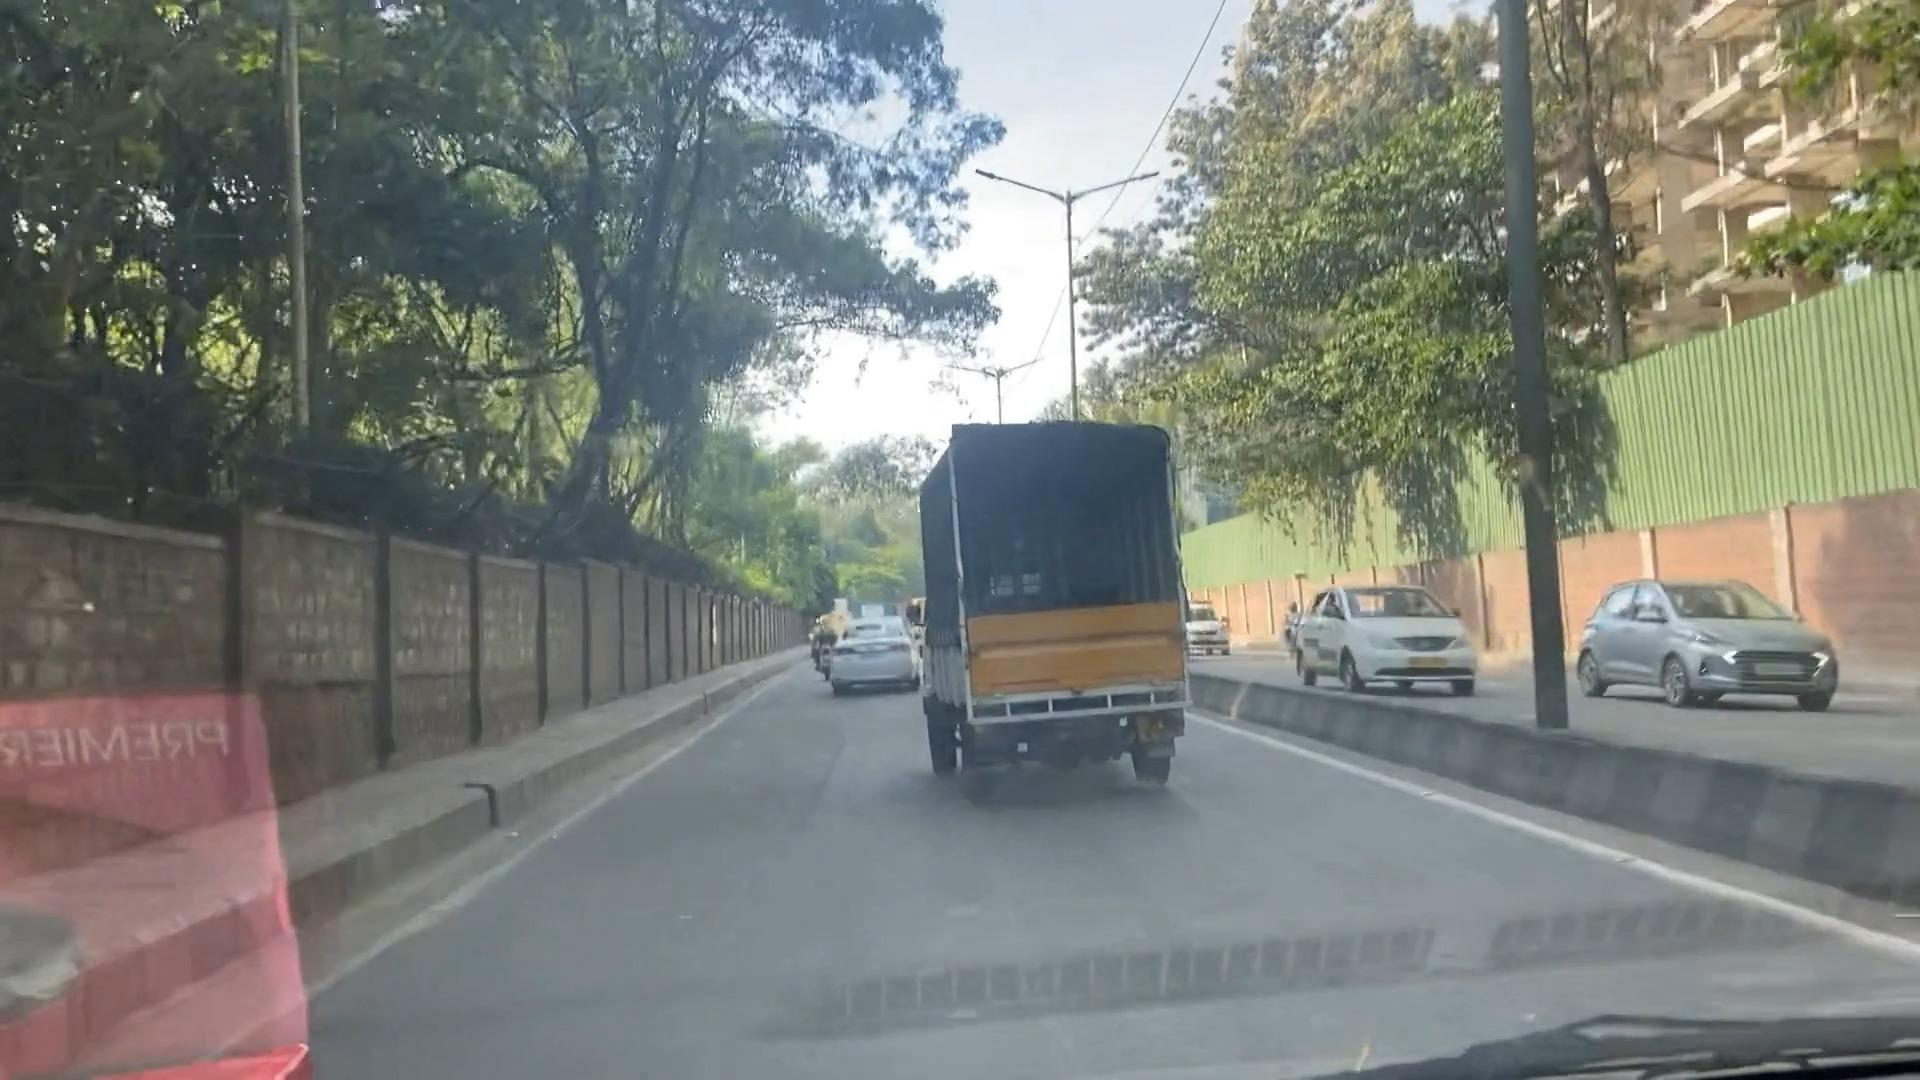HMV: (891, 398, 1199, 796)
